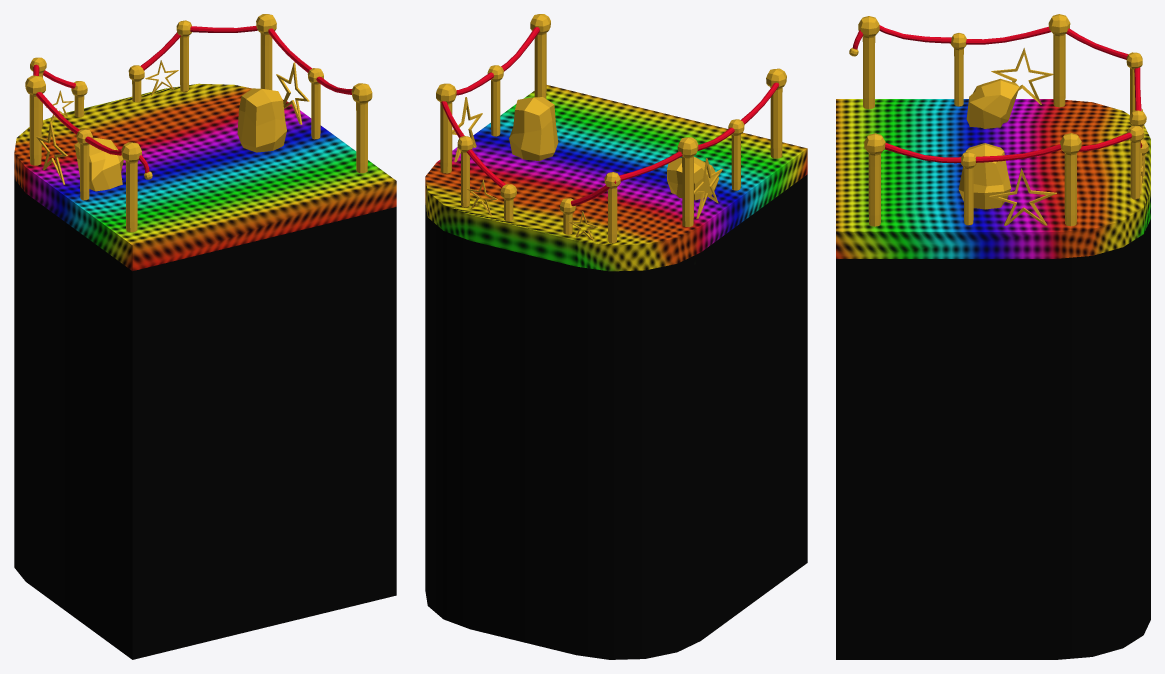
Rendered from Plataforma Inicio.fbx.
3 renders of one model, left to right at view 1: azimuth 30°, elevation 25°; view 2: azimuth 150°, elevation 25°; view 3: azimuth 270°, elevation 25°, orthographic. The views are drawn at different scales.
Parts seen in each view (by area): view 1: Plataforma Inicio, Cube.004, Cube, Cube.022, Cube.001, Plane.001; view 2: Plataforma Inicio, Cube.004, Cube, Cube.022, Plane.001, Cube.001; view 3: Plataforma Inicio, Cube.004, Cube.022, Cube, Cube.001, Plane.001.
Part boxes in pixels (bbox=[...]): Plataforma Inicio: bbox=[14, 83, 396, 659]; Cube.004: bbox=[25, 14, 372, 232]; Cube: bbox=[237, 88, 286, 152]; Cube.022: bbox=[33, 26, 351, 179]; Cube.001: bbox=[74, 137, 123, 191]; Plane.001: bbox=[36, 60, 309, 184]; Plataforma Inicio: bbox=[425, 85, 807, 659]; Cube.004: bbox=[436, 14, 786, 243]; Cube: bbox=[509, 97, 558, 161]; Cube.022: bbox=[441, 27, 778, 206]; Plane.001: bbox=[452, 97, 722, 240]; Cube.001: bbox=[667, 157, 719, 200]; Plataforma Inicio: bbox=[836, 99, 1150, 659]; Cube.004: bbox=[858, 14, 1148, 226]; Cube.022: bbox=[849, 25, 1142, 163]; Cube: bbox=[958, 143, 1011, 209]; Cube.001: bbox=[966, 78, 1019, 128]; Plane.001: bbox=[989, 48, 1143, 225].
Bounding box in the file's own units: 1000 × 1815 × 1000.
1 material, 1 textured.
